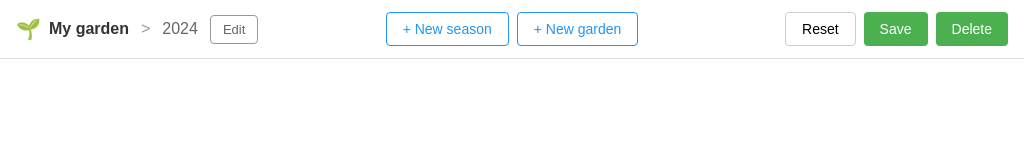
PlannerHeader › user can cancel edit mode
Click the button "Edit": (234, 29) [210, 14, 258, 44]
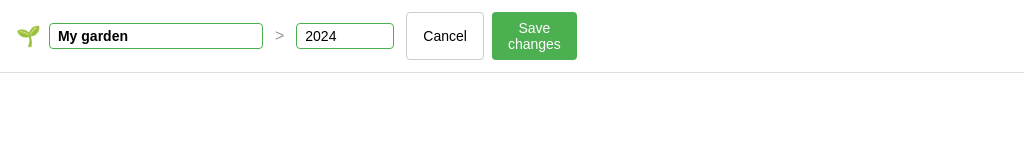
Click the button "Cancel": (445, 36) [406, 12, 484, 60]
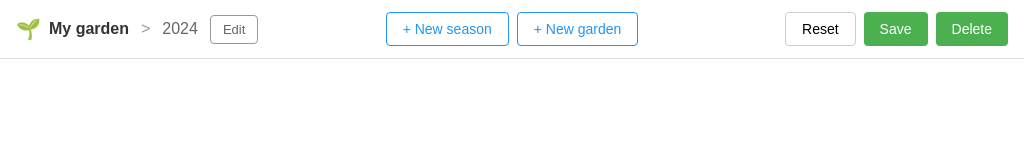
Now the text "My garden" is shown, box [49, 18, 129, 40]
Now the button "Save changes" is gone
